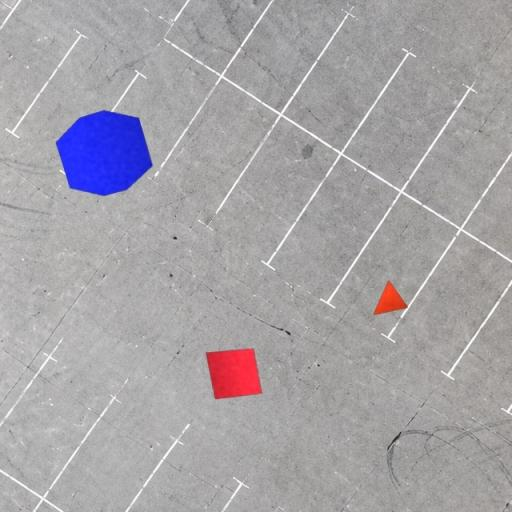RED_SQUARE: (205, 348, 262, 399)
